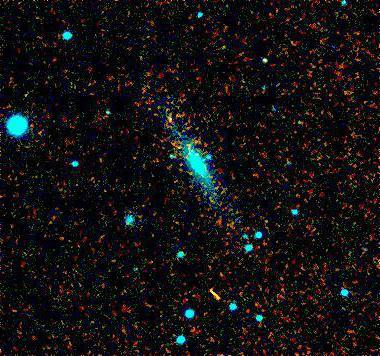star: (155, 105, 185, 135)
